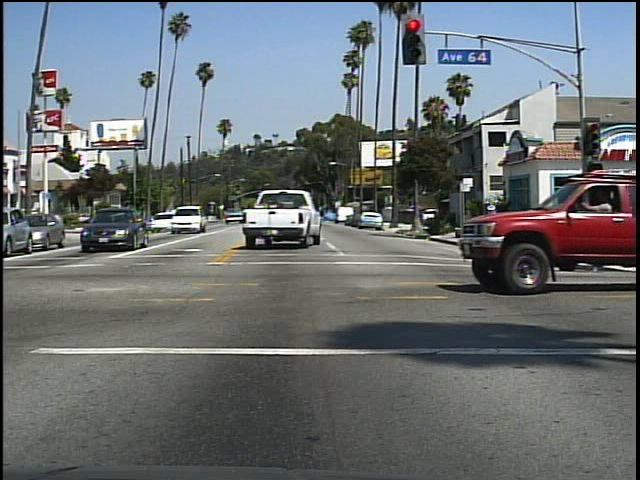person: (587, 181, 627, 221), (480, 200, 506, 236)
